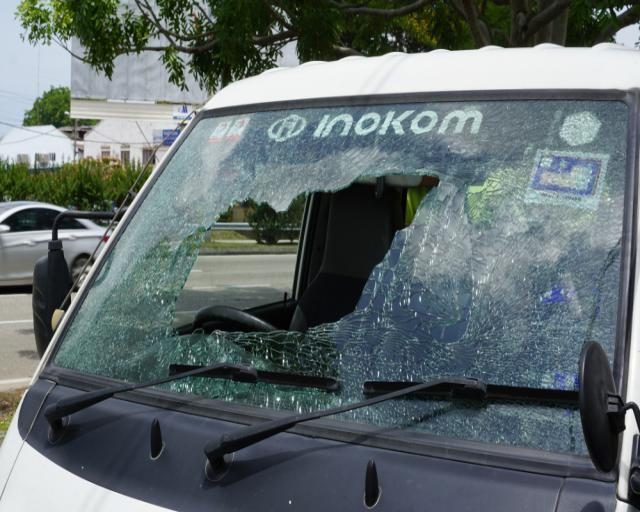glass shatter: (52, 100, 629, 456)
